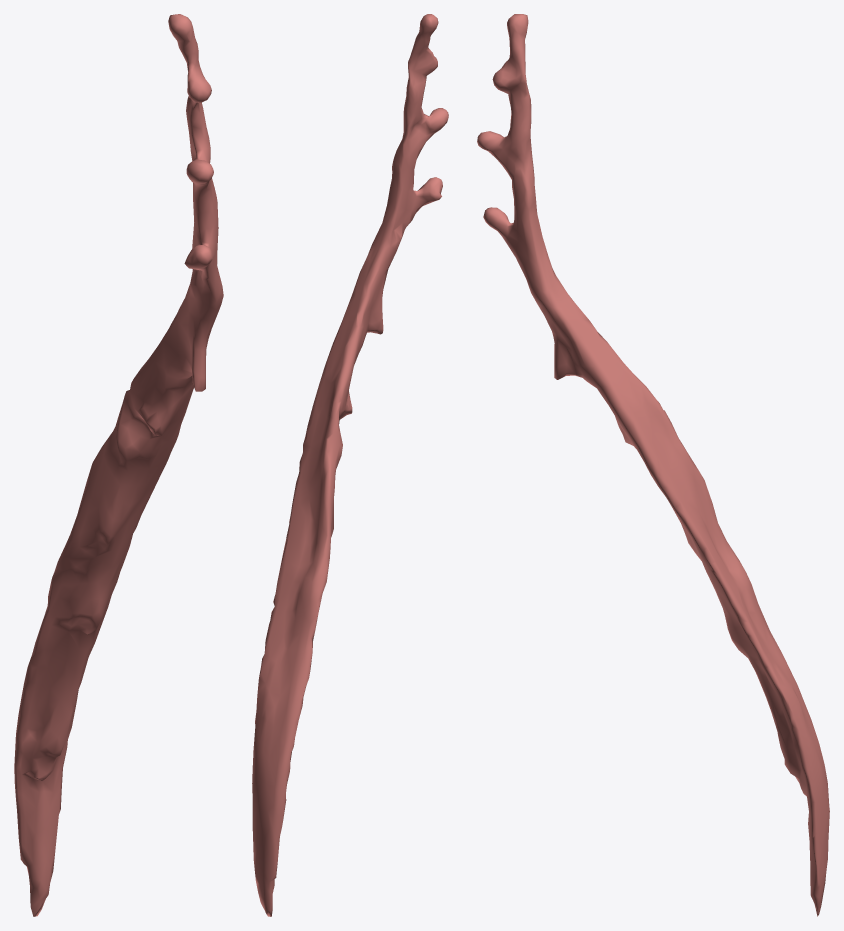
Rendered from fma22758_mm1302.glb.
3 views of the same model, side by side, from view 1: azimuth 30°, elevation 25°; view 2: azimuth 150°, elevation 25°; view 3: azimuth 270°, elevation 25° (orthographic). The views are drawn at different scales.
Visible parts, largest first — view 1: FMA22758_MM1302; view 2: FMA22758_MM1302; view 3: FMA22758_MM1302.
Part boxes in pixels (x1,y1,x2,y2): FMA22758_MM1302: (14, 14, 223, 916); FMA22758_MM1302: (252, 14, 448, 916); FMA22758_MM1302: (477, 14, 829, 916).
Bounding box in the file's own units: 0.0171 × 0.1959 × 0.0705.
